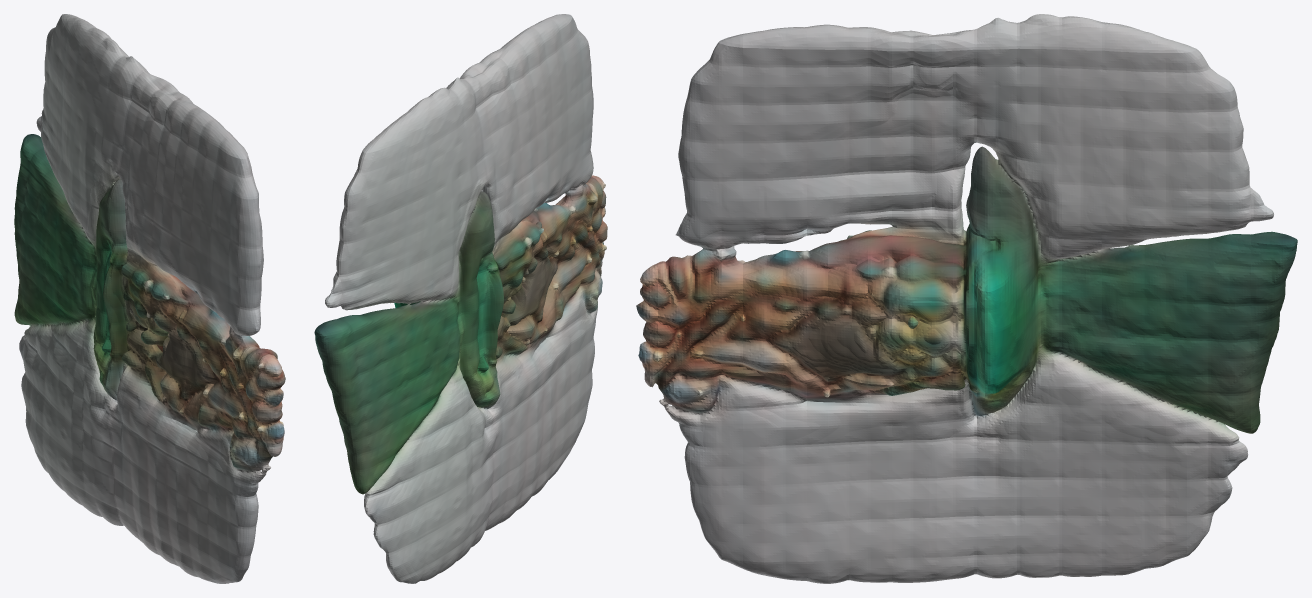
Rendered from divi.glb.
3 renders of one model, left to right at view 1: azimuth 30°, elevation 25°; view 2: azimuth 150°, elevation 25°; view 3: azimuth 270°, elevation 25°, orthographic. The views are drawn at different scales.
Parts seen in each view (by area): view 1: world; view 2: world; view 3: world.
Part boxes in pixels (x1,y1,x2,y2): world: (14,14,285,583); world: (314,14,607,583); world: (636,14,1297,583).
Bounding box in the file's own units: 0.1905 × 0.8142 × 0.8472.
